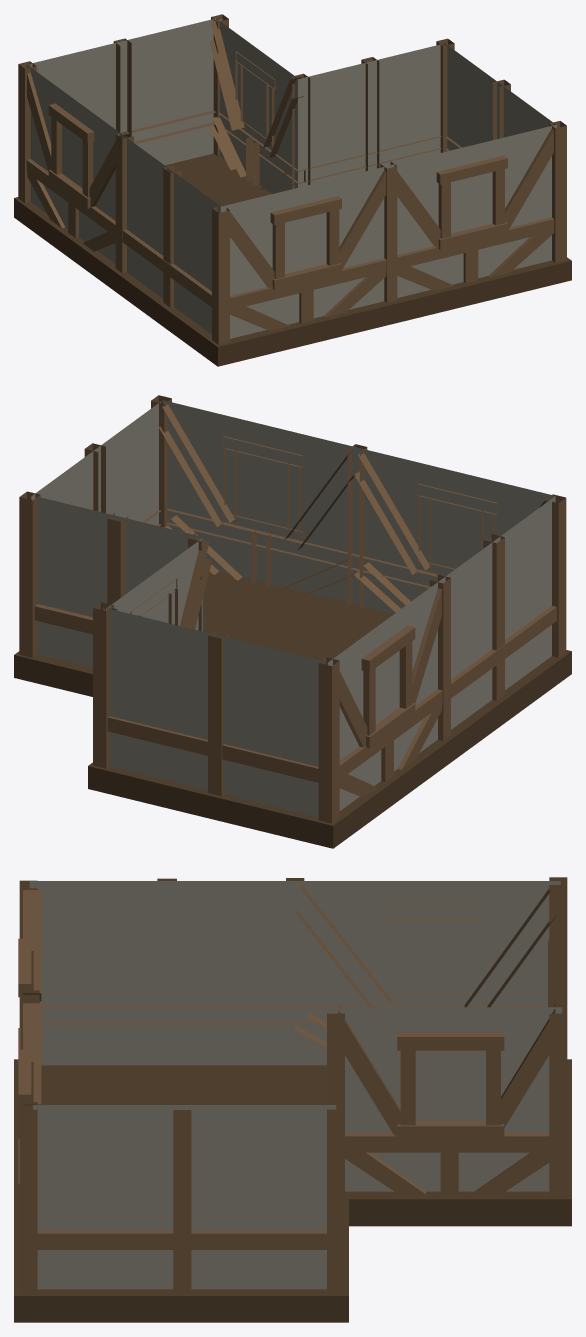
File: M_House_1F.fbx
The picture shows the model from 3 angles, top to bottom: view 1: azimuth 30°, elevation 25°; view 2: azimuth 150°, elevation 25°; view 3: azimuth 270°, elevation 25°; orthographic projection. The views are drawn at different scales.
Visible parts, largest first — view 1: pCube3 (×2), pCube4 (×2), pCube67, pCube5, pCube6, pCube22 (×2), pCube41 (×3), pCube32 (×2), pCube40 (×3), pCube34 (×3), pCube33 (×3), pCube18 (+18 smaller); view 2: pCube3 (×2), pCube5, pCube67, pCube4 (×2), pCube22 (×2), pCube41 (×3), pCube32 (×2), pCube17, pCube6, pCube21, pCube14, pCube16 (+13 smaller); view 3: pCube3, pCube4, pCube67, pCube6, pCube19, pCube51 (×2), pCube40 (×3), pCube7, pCube16, pCube34 (×3), pCube20, pCube14 (+13 smaller).
Boxes of the visible parts, x1=… form: pCube3 (×2): x1=26, y1=65, x2=556, y2=338; pCube4 (×2): x1=298, y1=43, x2=554, y2=187; pCube67: x1=14, y1=153, x2=571, y2=366; pCube5: x1=30, y1=18, x2=216, y2=165; pCube6: x1=215, y1=18, x2=297, y2=193; pCube22 (×2): x1=26, y1=159, x2=554, y2=310; pCube41 (×3): x1=89, y1=124, x2=553, y2=269; pCube32 (×2): x1=115, y1=131, x2=397, y2=302; pCube40 (×3): x1=27, y1=68, x2=440, y2=288; pCube34 (×3): x1=48, y1=103, x2=507, y2=224; pCube33 (×3): x1=48, y1=169, x2=507, y2=290; pCube18: x1=212, y1=205, x2=229, y2=344; pCube3 (×2): x1=162, y1=400, x2=555, y2=810; pCube5: x1=106, y1=608, x2=324, y2=817; pCube67: x1=14, y1=571, x2=571, y2=848; pCube4 (×2): x1=31, y1=402, x2=204, y2=667; pCube22 (×2): x1=166, y1=508, x2=556, y2=779; pCube41 (×3): x1=159, y1=404, x2=441, y2=703; pCube32 (×2): x1=347, y1=444, x2=450, y2=740; pCube17: x1=318, y1=657, x2=339, y2=823; pCube6: x1=106, y1=538, x2=202, y2=631; pCube21: x1=107, y1=716, x2=318, y2=782; pCube14: x1=19, y1=491, x2=40, y2=657; pCube16: x1=93, y1=602, x2=114, y2=768; pCube3: x1=29, y1=881, x2=560, y2=1065; pCube4: x1=33, y1=1105, x2=336, y2=1289; pCube67: x1=14, y1=1059, x2=571, y2=1322; pCube6: x1=336, y1=1007, x2=562, y2=1191; pCube19: x1=37, y1=1230, x2=326, y2=1249; pCube51 (×2): x1=173, y1=1052, x2=344, y2=1293; pCube40 (×3): x1=23, y1=888, x2=556, y2=1104; pCube7: x1=19, y1=1102, x2=37, y2=1293; pCube16: x1=549, y1=1006, x2=567, y2=1197; pCube34 (×3): x1=18, y1=938, x2=504, y2=1108; pCube20: x1=345, y1=1132, x2=549, y2=1152; pCube14: x1=327, y1=1102, x2=344, y2=1293.
Size of the model in its own units: 6.18 by 2.57 by 6.16.
